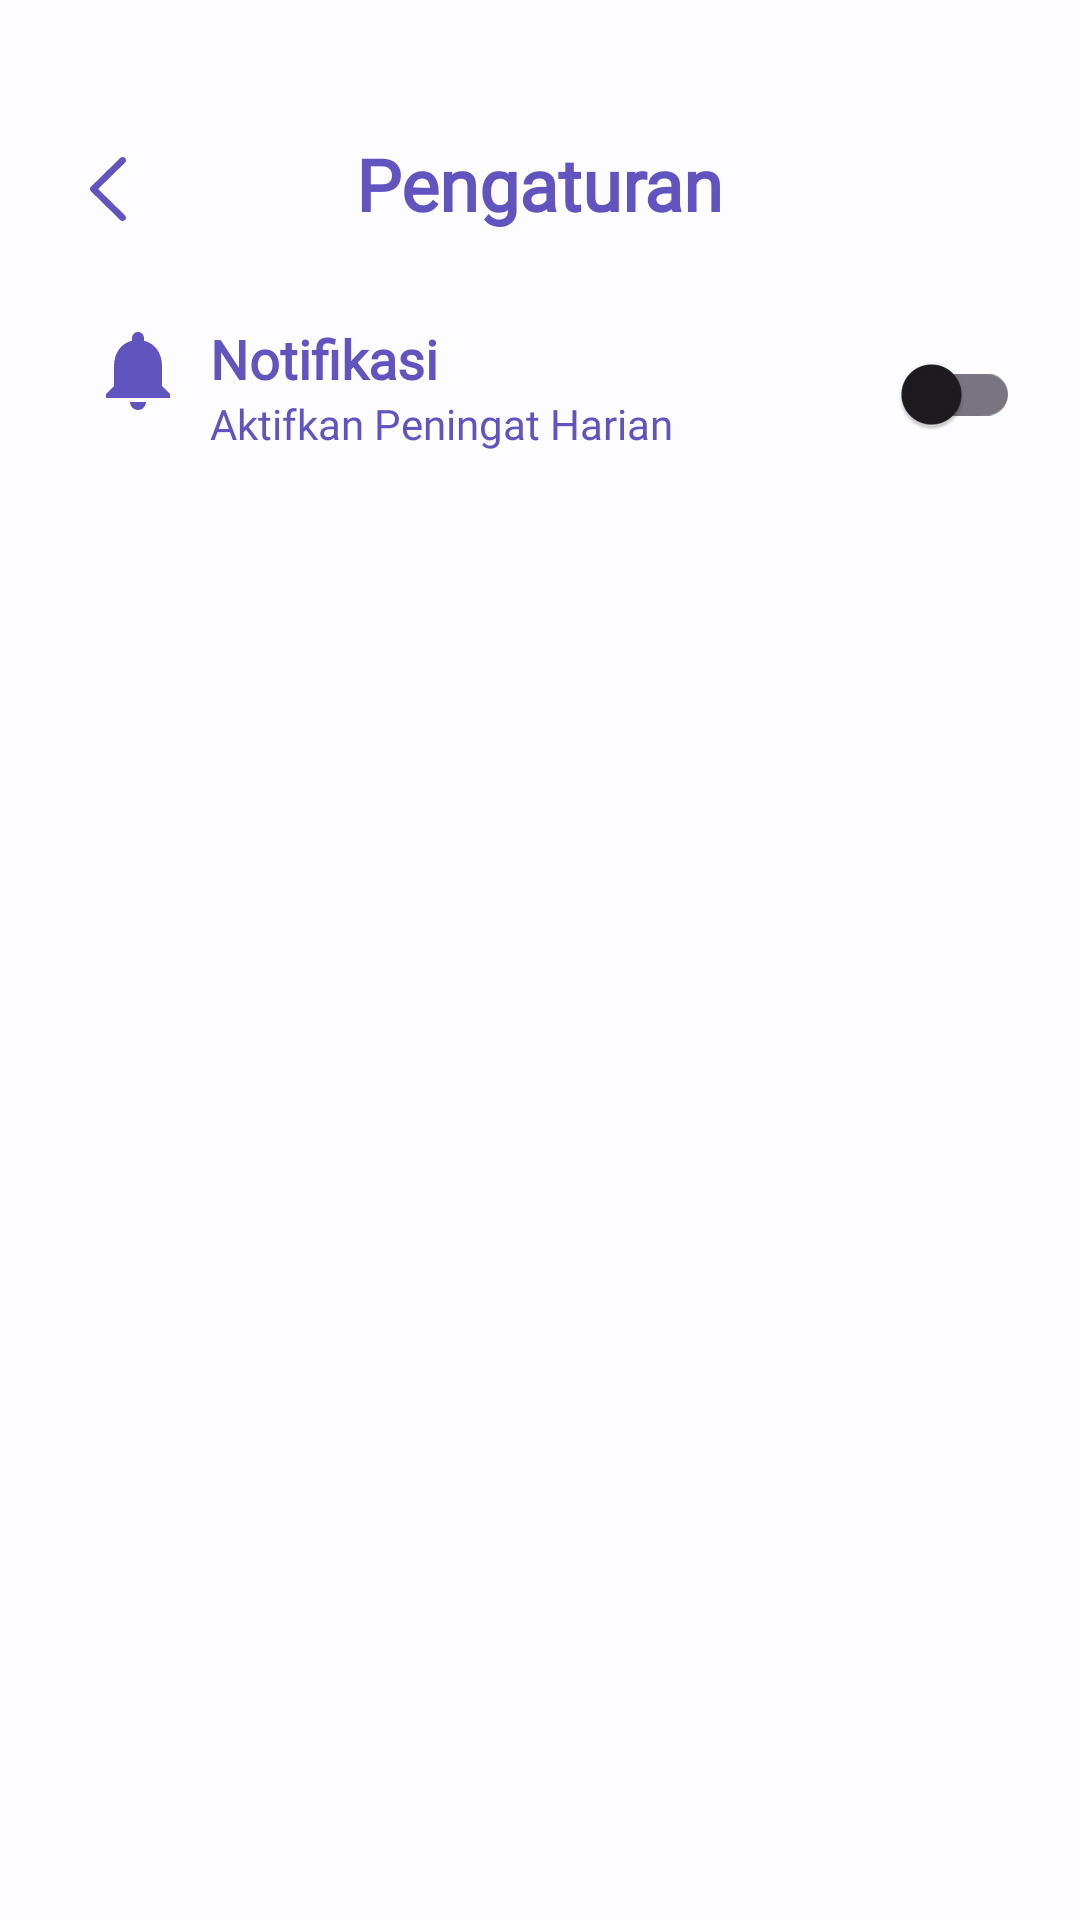

Icon click points for this 1080px×1920px phone screenshot, format (x=x, y=y):
Tombol Kembali: (x=108, y=189)
